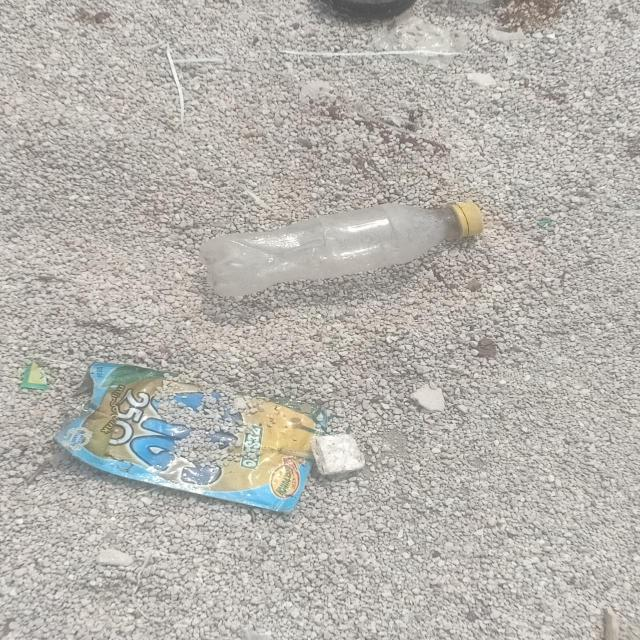plastic_waste: (56, 361, 326, 515), (201, 202, 485, 298)
